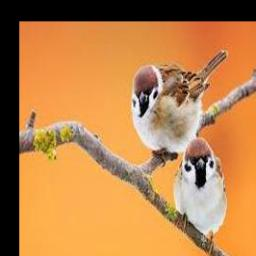Sparrow: (132, 50, 228, 167), (173, 137, 227, 256)
